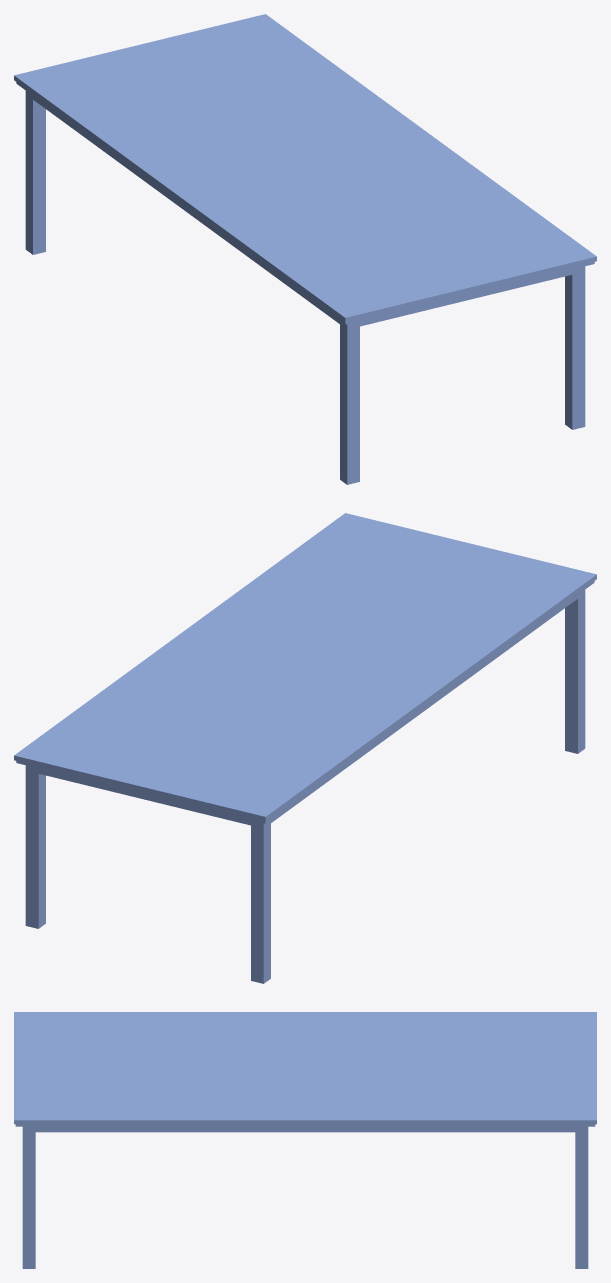
Rendered from MESA 6.fbx.
3 views of the same model, one above another, from view 1: azimuth 30°, elevation 25°; view 2: azimuth 150°, elevation 25°; view 3: azimuth 270°, elevation 25° (orthographic). The views are drawn at different scales.
Visible parts, largest first — view 1: MESA 6 PERSONAS; view 2: MESA 6 PERSONAS; view 3: MESA 6 PERSONAS.
Boxes of the visible parts, x1,y1,x2,y2 form: MESA 6 PERSONAS: (14, 14, 596, 484); MESA 6 PERSONAS: (14, 513, 596, 983); MESA 6 PERSONAS: (14, 1012, 596, 1268).
Bounding box in the file's own units: 107 × 70 × 244.
